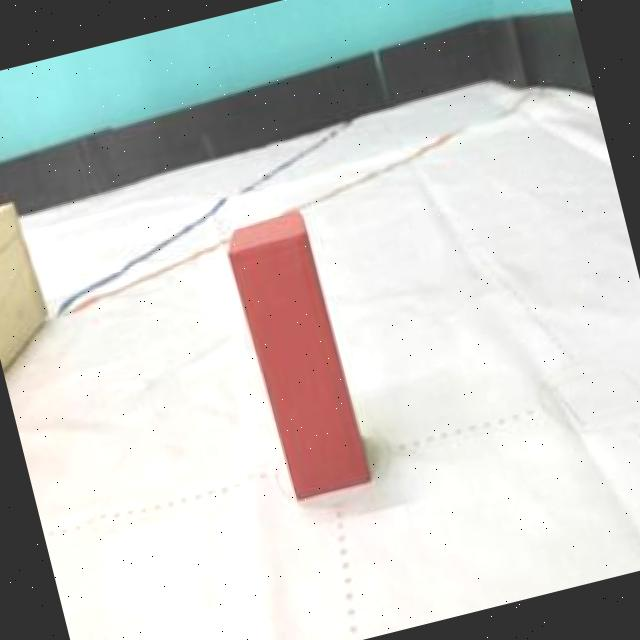redbox: (219, 203, 376, 504)
